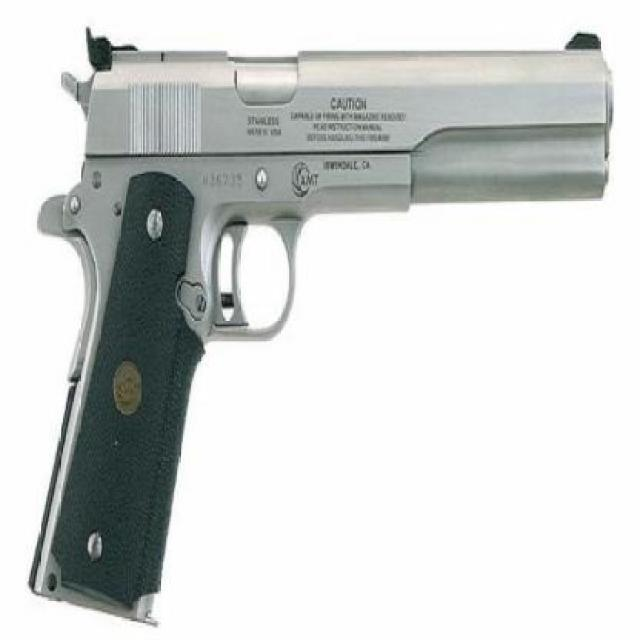gun: (28, 17, 610, 626)
